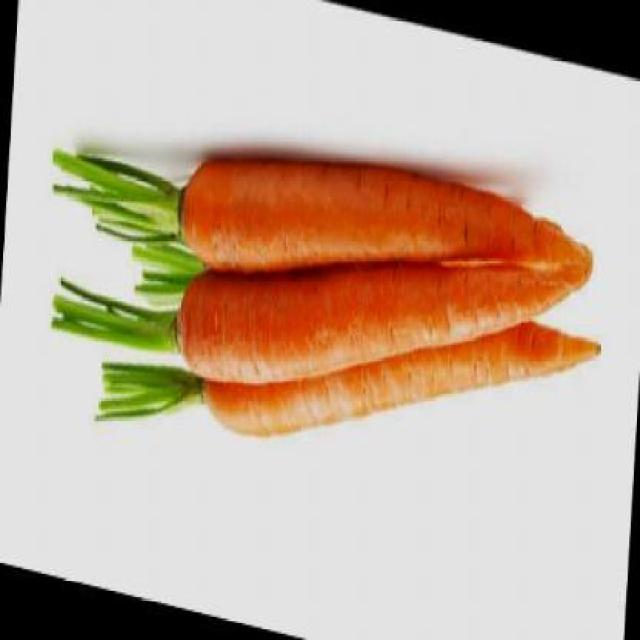carrot: (170, 160, 593, 468), (196, 234, 598, 521), (180, 113, 591, 362)
